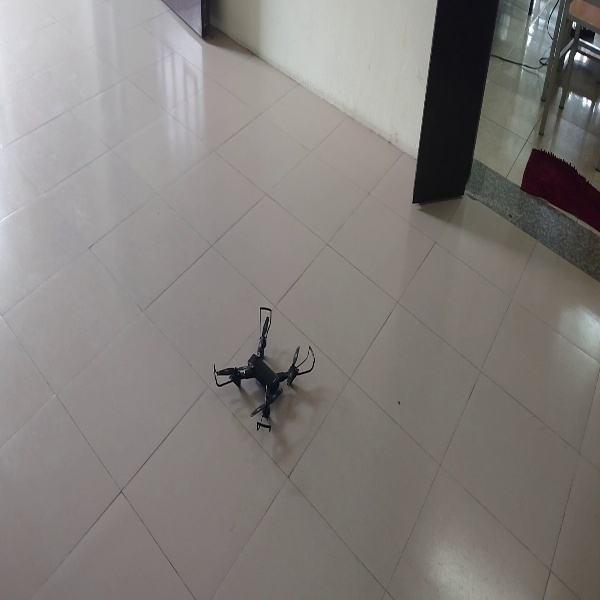drone: (203, 298, 318, 433)
